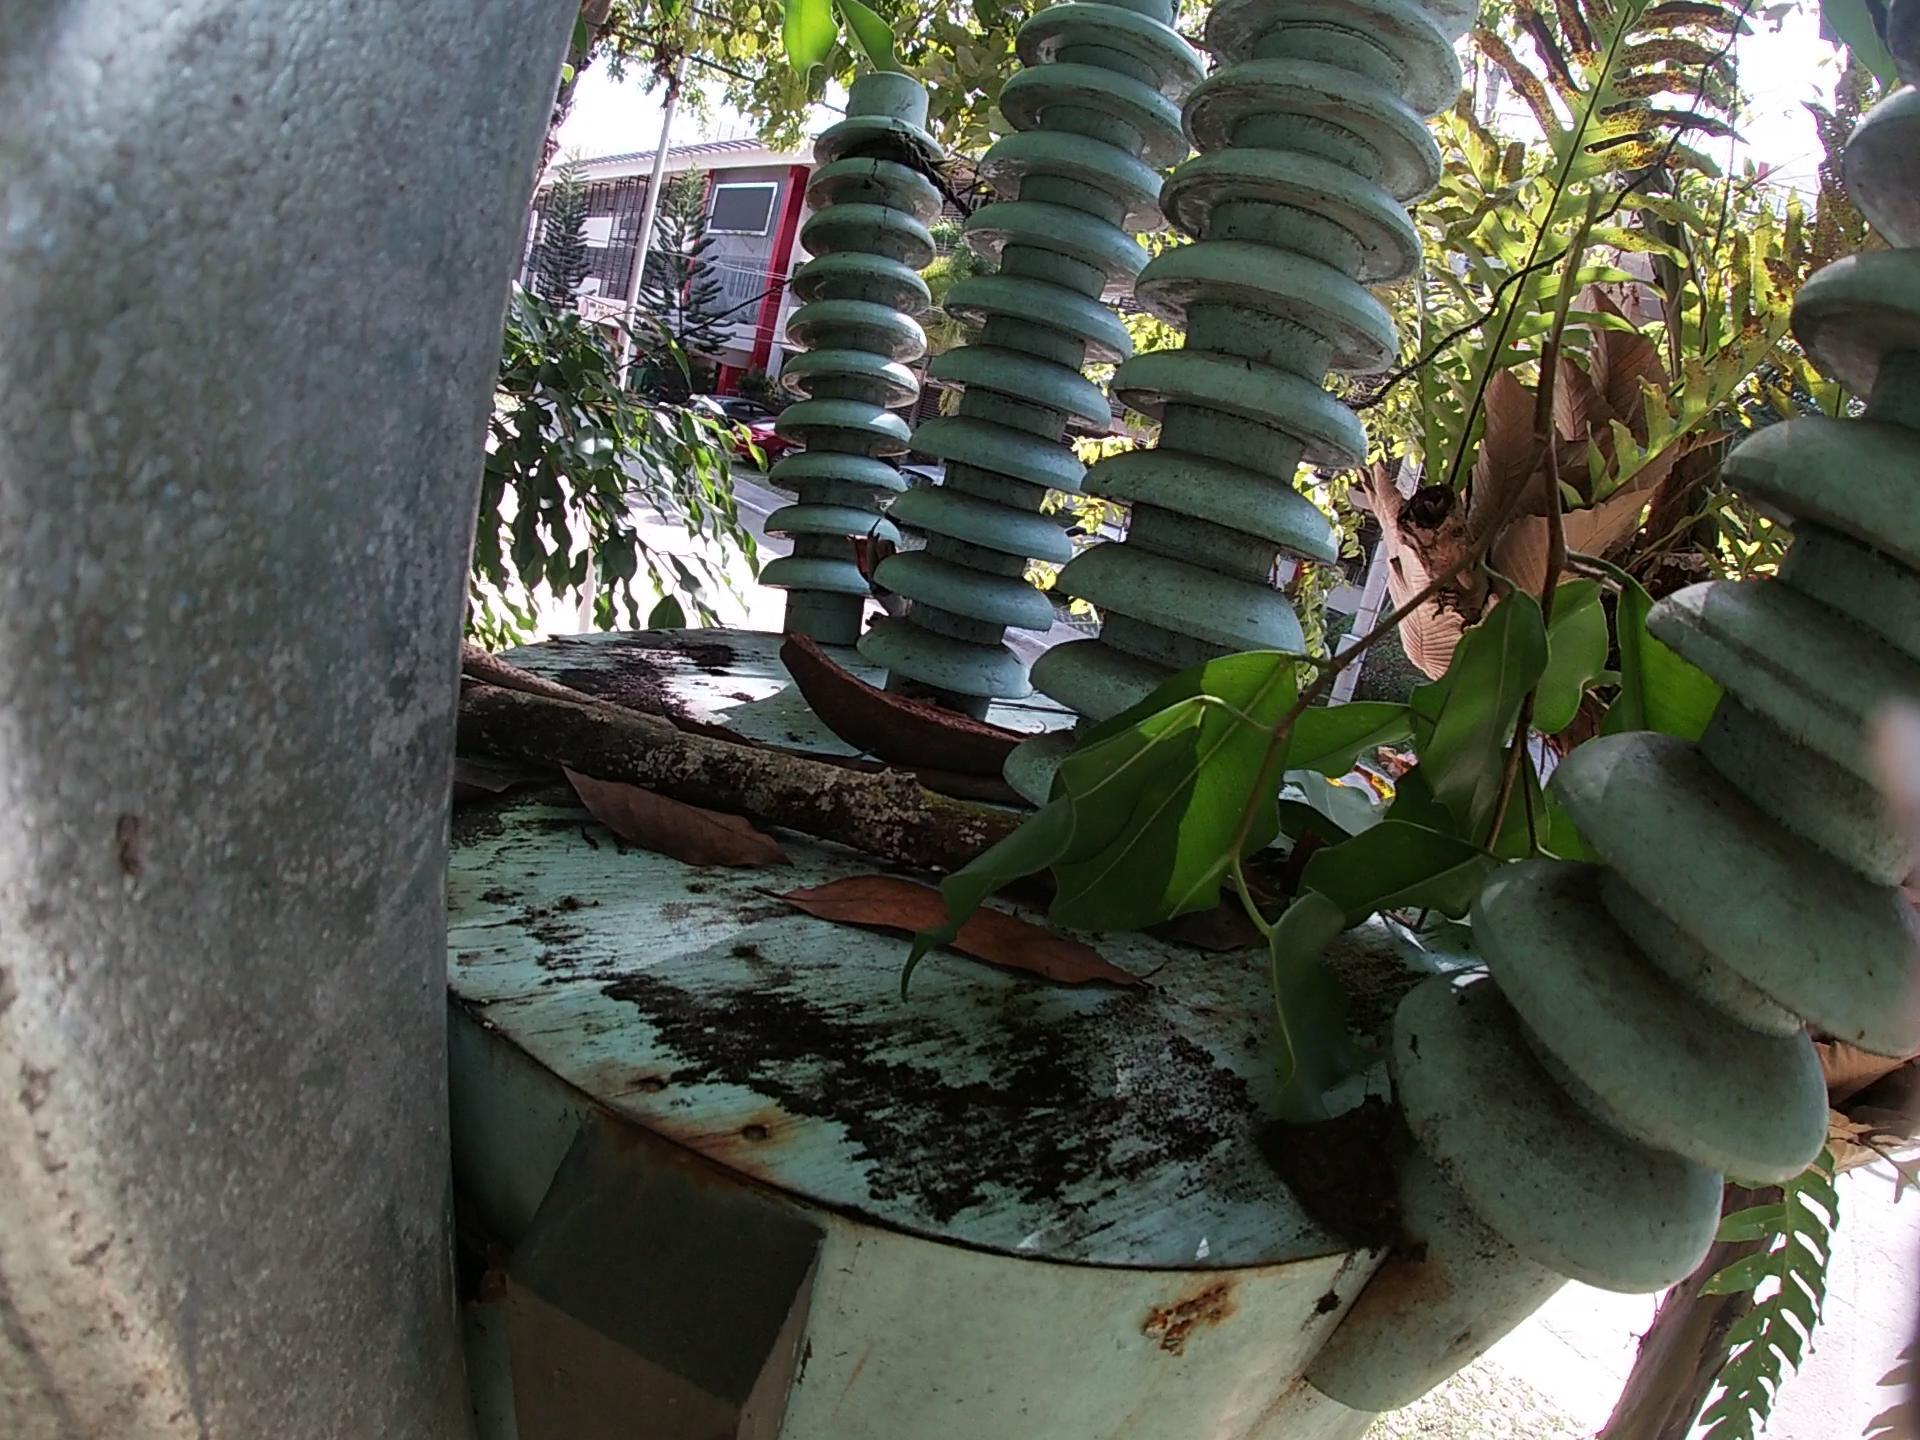branch with leaves: (952, 166, 1713, 1184)
leaf: (791, 879, 1169, 1004), (540, 774, 791, 882)
mahogany fruit: (788, 643, 1061, 805)
tree branch: (460, 681, 1079, 882), (451, 637, 683, 735)
